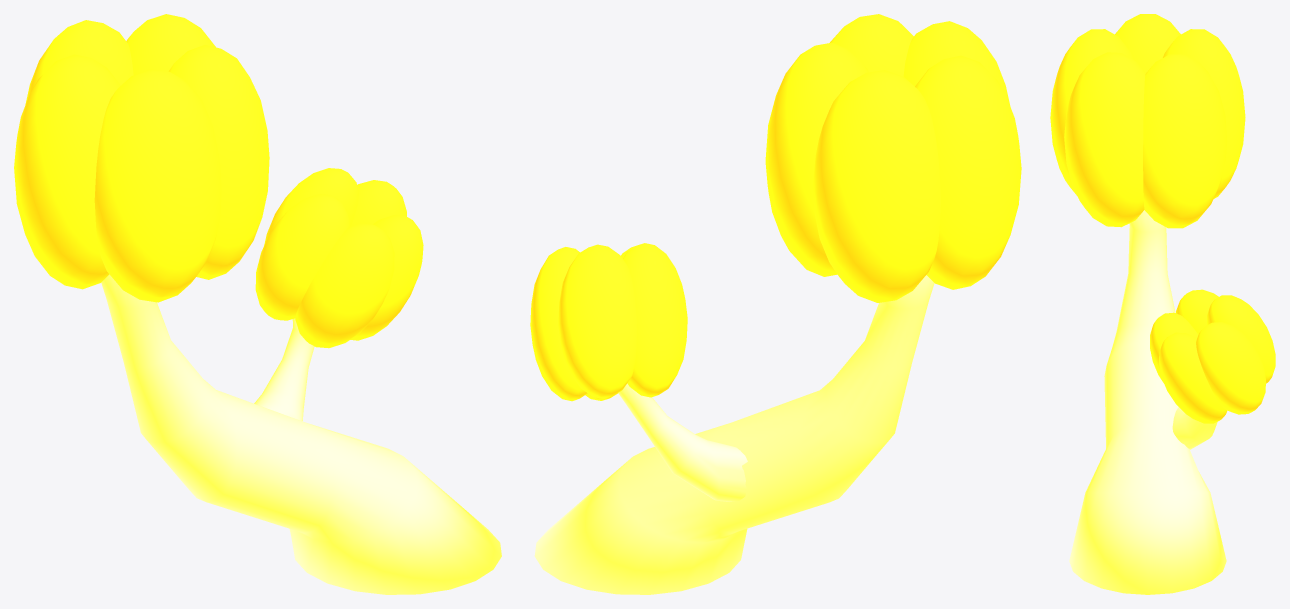
Rendered from flower3.fbx.
3 renders of one model, left to right at view 1: azimuth 30°, elevation 25°; view 2: azimuth 150°, elevation 25°; view 3: azimuth 270°, elevation 25°, orthographic. The views are drawn at different scales.
Parts seen in each view (by area): view 1: Icosphere, Cylinder.001, Icosphere.001, Cylinder.020; view 2: Icosphere, Cylinder.001, Icosphere.001, Cylinder.020; view 3: Icosphere, Cylinder.001, Icosphere.001, Cylinder.020.
Boxes of the visible parts, x1=… form: Icosphere: x1=14, y1=14, x2=269, y2=302; Cylinder.001: x1=101, y1=274, x2=501, y2=594; Icosphere.001: x1=255, y1=168, x2=423, y2=348; Cylinder.020: x1=254, y1=318, x2=314, y2=421; Icosphere: x1=765, y1=14, x2=1021, y2=302; Cylinder.001: x1=534, y1=275, x2=934, y2=594; Icosphere.001: x1=530, y1=243, x2=687, y2=401; Cylinder.020: x1=618, y1=383, x2=747, y2=501; Icosphere: x1=1050, y1=14, x2=1245, y2=228; Cylinder.001: x1=1069, y1=210, x2=1226, y2=594; Icosphere.001: x1=1150, y1=289, x2=1275, y2=423; Cylinder.020: x1=1172, y1=407, x2=1217, y2=449.
Size of the model in its own units: 519 by 611 by 291.
